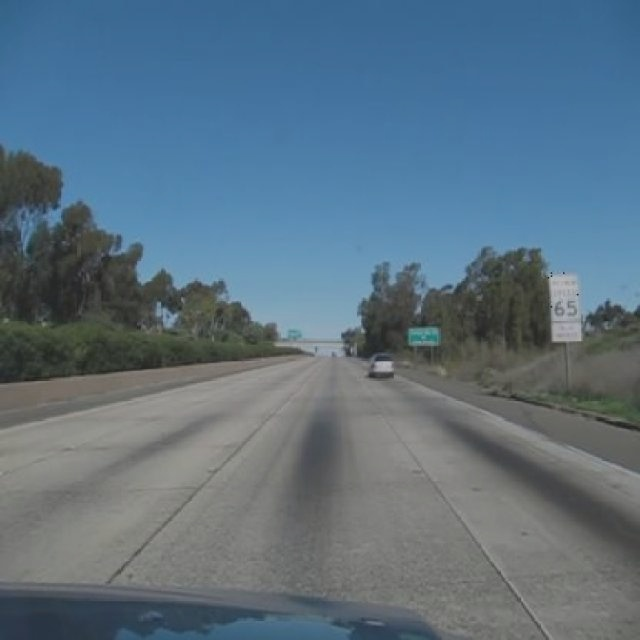speedLimit65: (548, 272, 580, 323)
